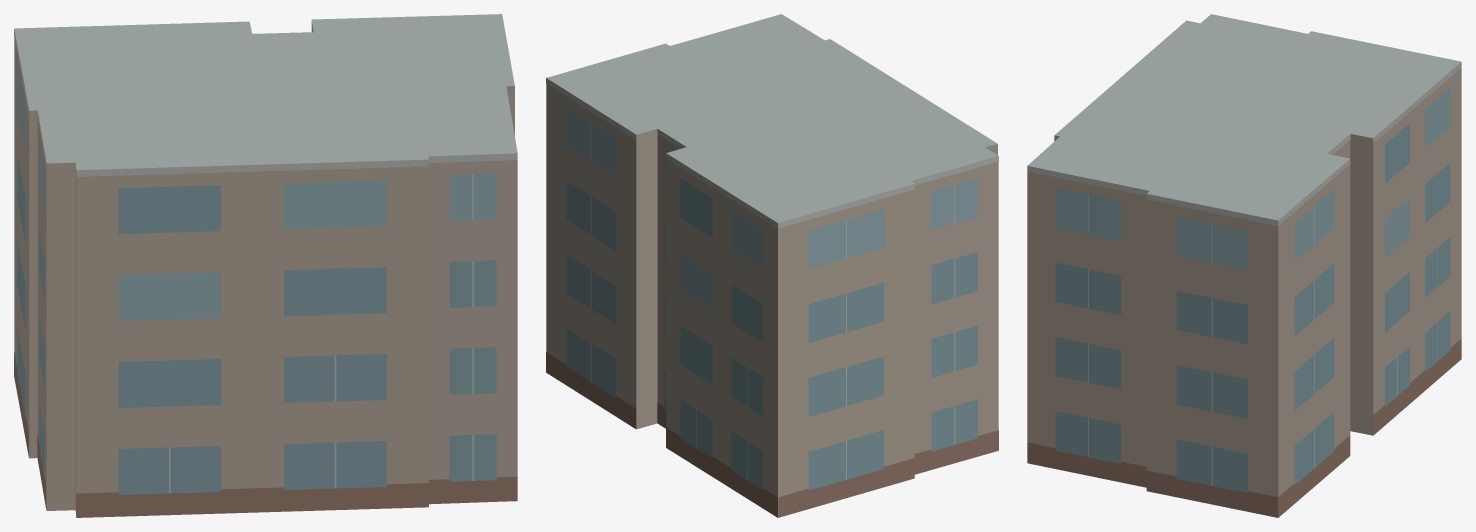
File: survey-upis-32653332.glb
3 renders of one model, left to right at view 1: azimuth 30°, elevation 25°; view 2: azimuth 150°, elevation 25°; view 3: azimuth 270°, elevation 25°, orthographic. The views are drawn at different scales.
Visible parts, largest first — view 1: survey-upis-32653332.tmp; view 2: survey-upis-32653332.tmp; view 3: survey-upis-32653332.tmp.
Part boxes in pixels (x1,y1,x2,y2): survey-upis-32653332.tmp: [14, 14, 517, 517]; survey-upis-32653332.tmp: [546, 14, 998, 517]; survey-upis-32653332.tmp: [1027, 14, 1461, 517].
Size of the model in its own units: 18.92 by 12.7 by 16.82.
